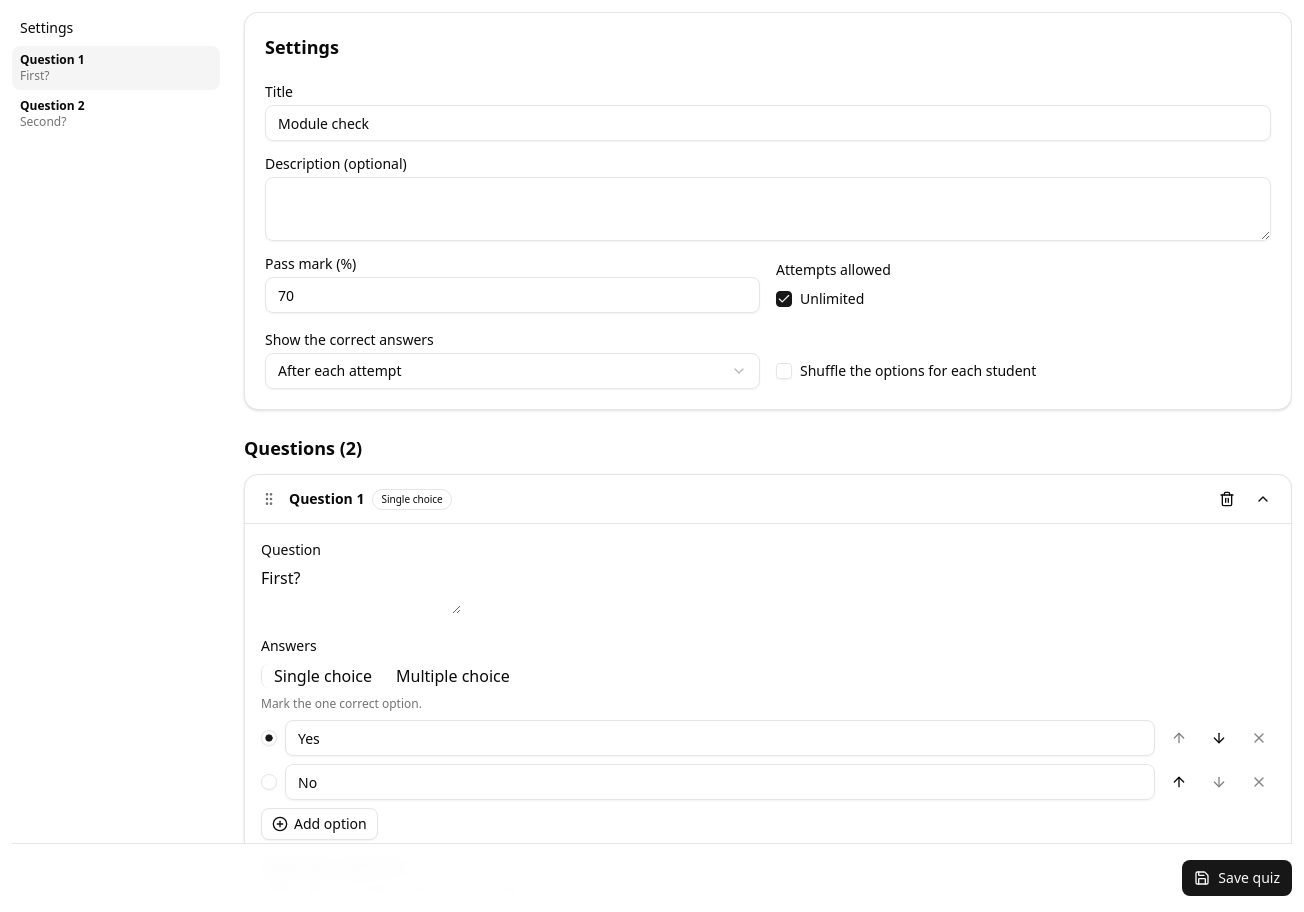
it: QuizBuilder › opens the first question with problems when saving
This screenshot has width=1304, height=912.
Click the button "Save quiz": point(1237, 878) x1=1182 y1=860 x2=1292 y2=896
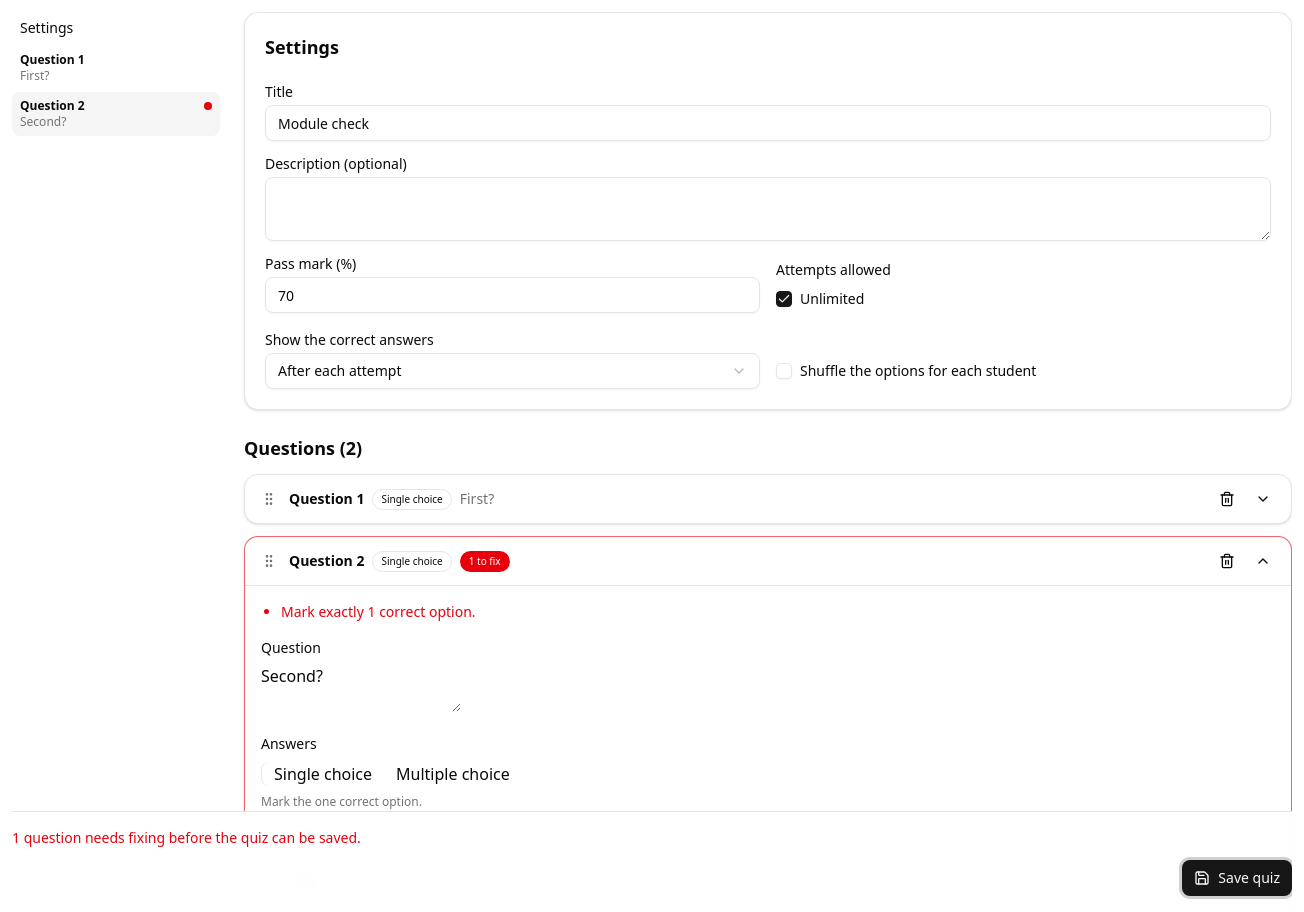
Now the button named "Collapse Question 2" is shown, box x1=1247 y1=545 x2=1279 y2=577
Now the text "1 to fix" is shown, box x1=460 y1=550 x2=510 y2=572
